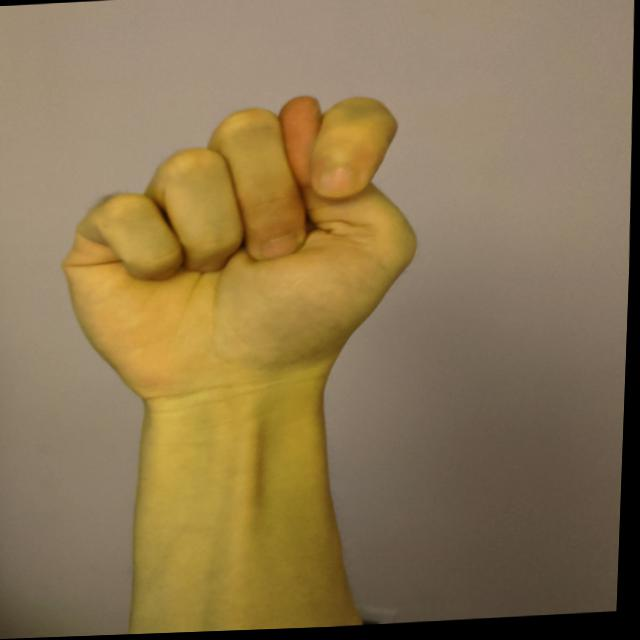T: (48, 86, 436, 420)
